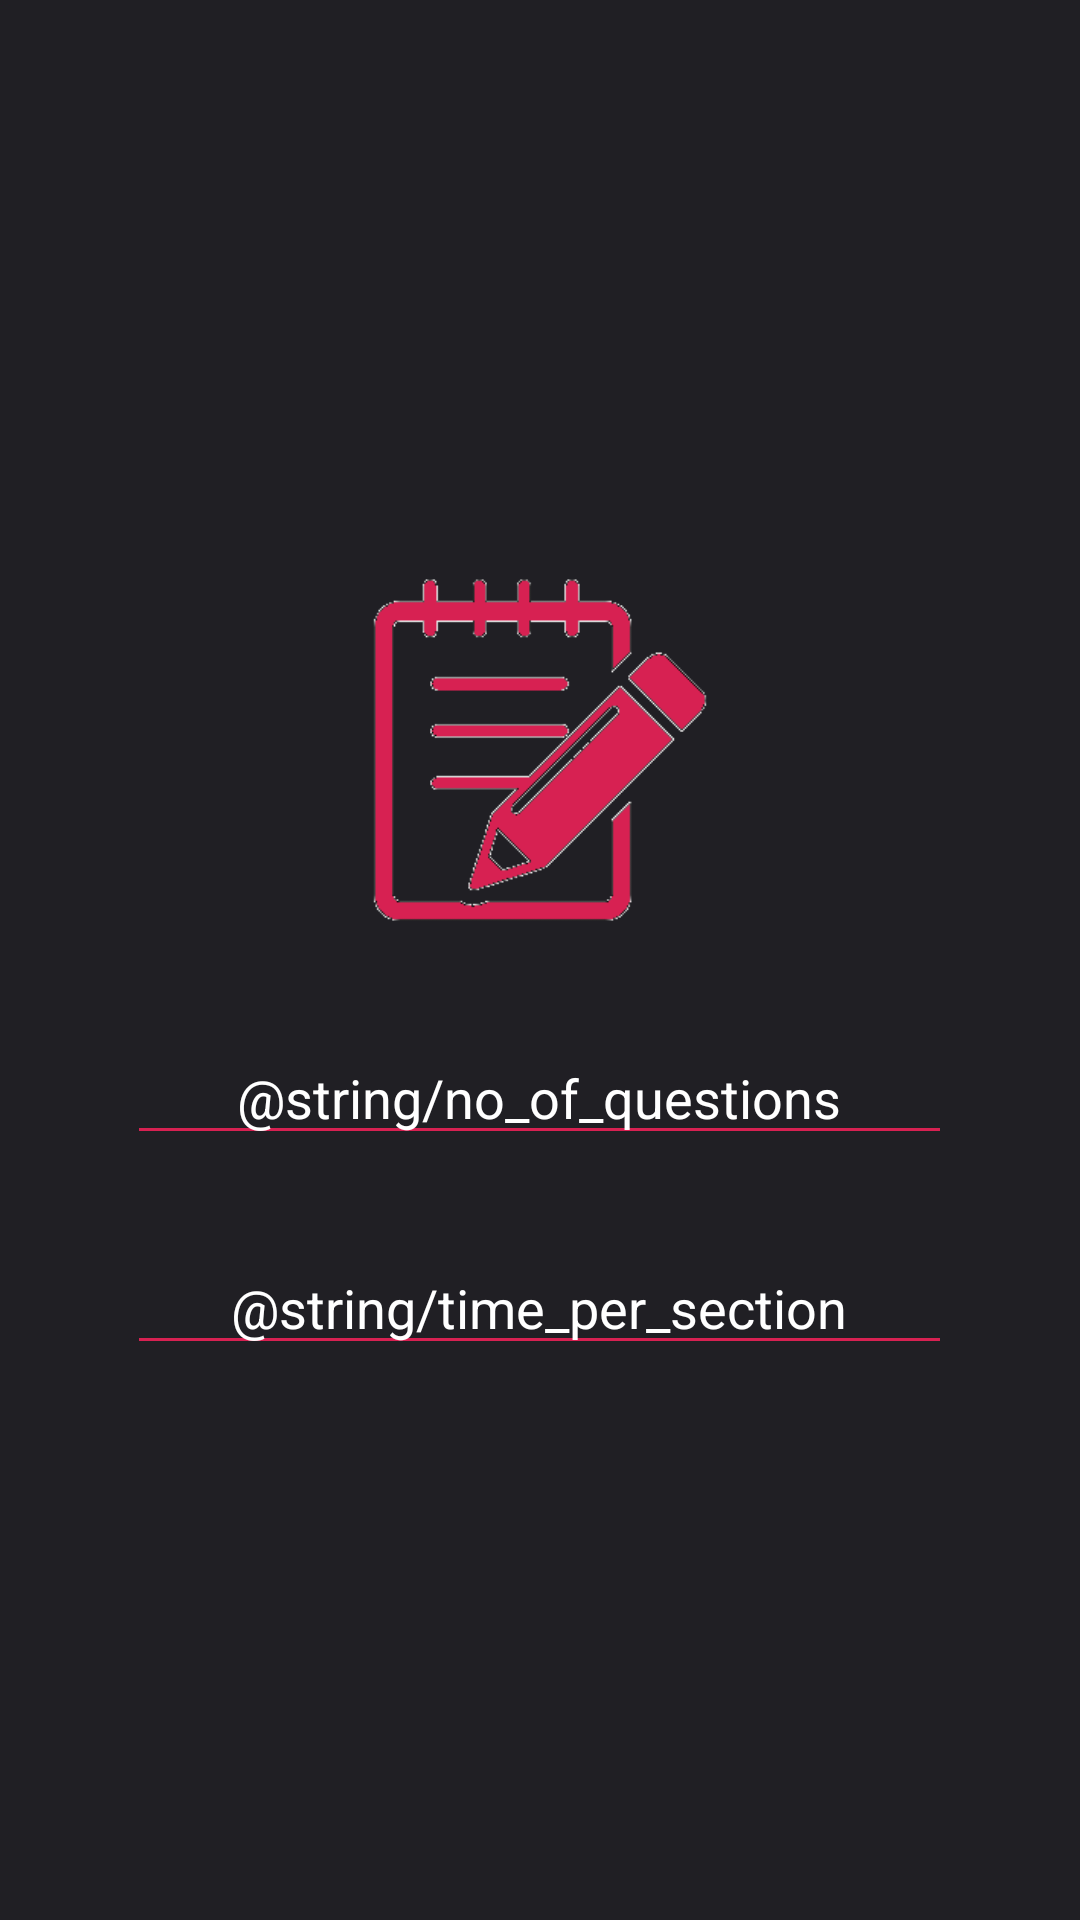

Where icons sit on this 1080x1920 app screen, as rect(x1, y1, x2, y2):
questn paper: rect(373, 579, 707, 921)
